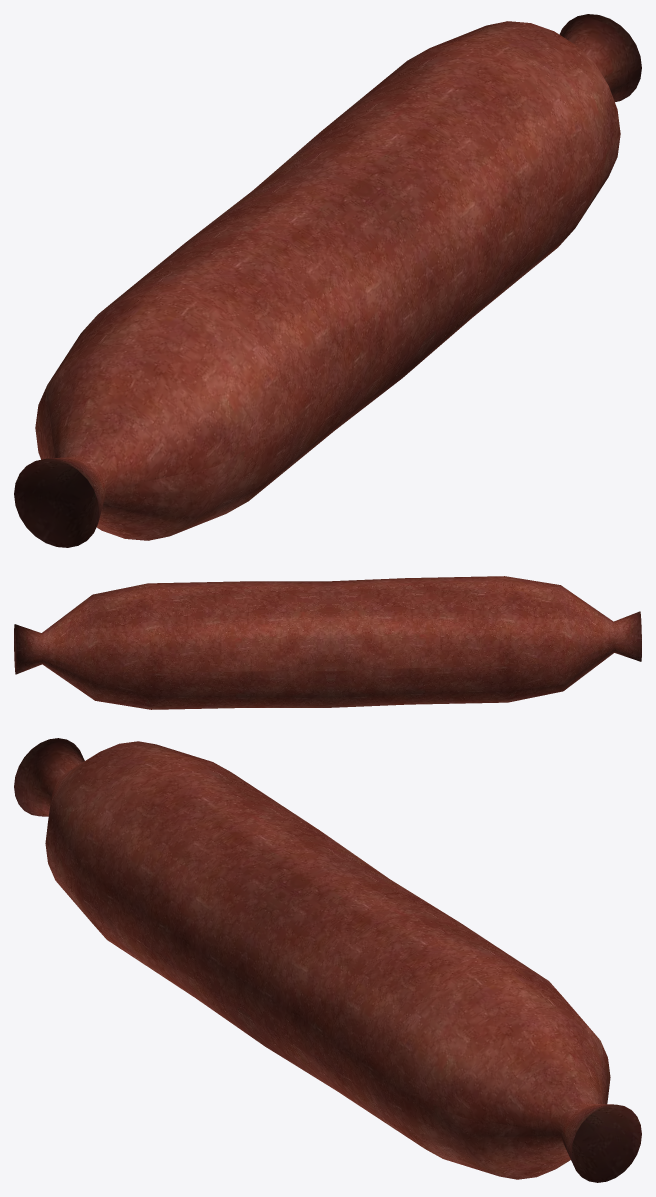
File: Food_Sausage.glb
3 renders of one model, top to bottom at view 1: azimuth 30°, elevation 25°; view 2: azimuth 150°, elevation 25°; view 3: azimuth 270°, elevation 25°, orthographic. The views are drawn at different scales.
Visible parts, largest first — view 1: Food_Sausage; view 2: Food_Sausage; view 3: Food_Sausage.
Part boxes in pixels (x1,y1,x2,y2): Food_Sausage: (14, 14, 641, 547); Food_Sausage: (14, 576, 641, 709); Food_Sausage: (14, 738, 641, 1182).
Bounding box in the file's own units: 0.3881 × 0.0902 × 0.2671.
1 material, 1 textured.
